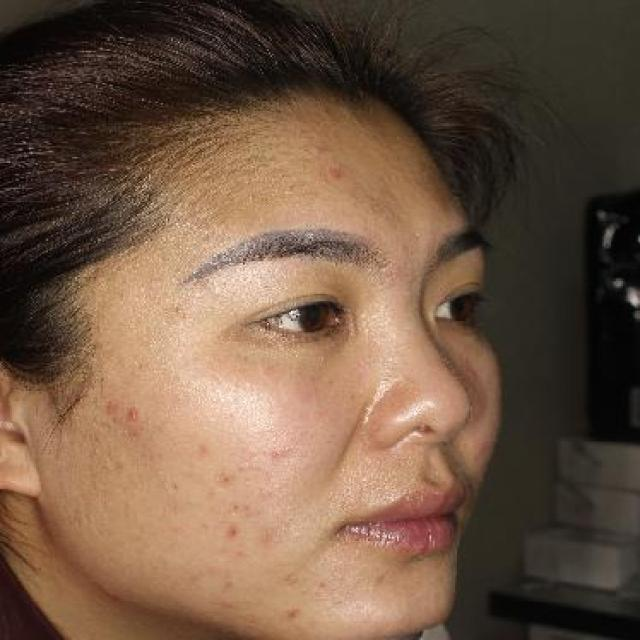dark spot: (322, 158, 351, 188), (212, 463, 240, 492), (281, 602, 308, 626), (219, 518, 243, 544), (192, 434, 214, 461), (122, 404, 147, 424), (101, 400, 120, 415)
